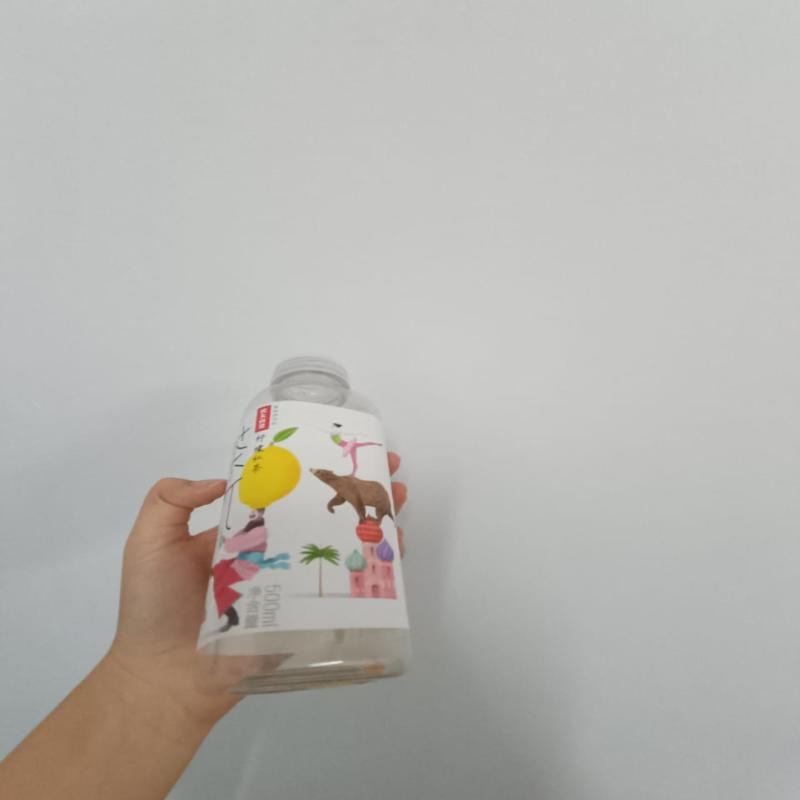botella: (201, 349, 419, 692)
